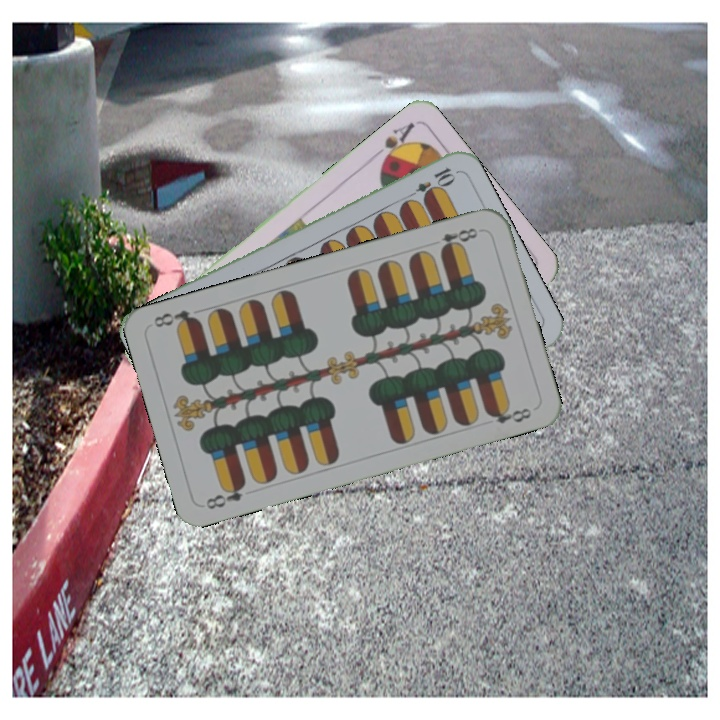E10: (402, 163, 457, 203)
E8: (201, 477, 249, 512), (436, 224, 484, 255)
SA: (376, 118, 418, 169)
